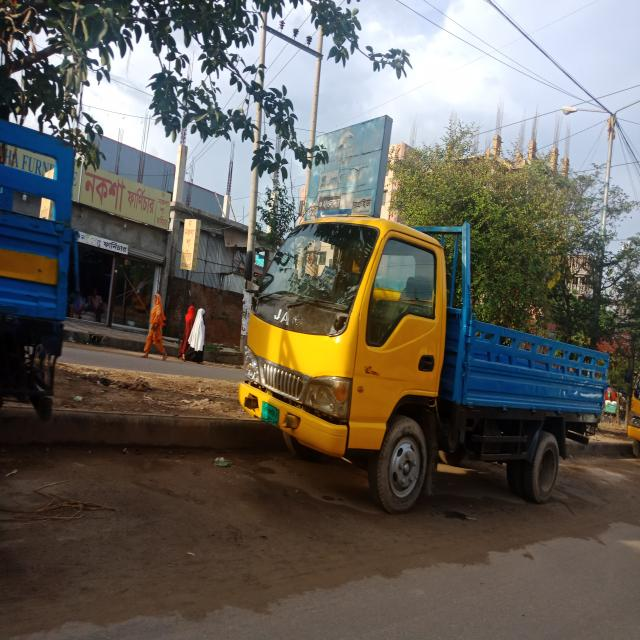truck: (238, 215, 609, 514)
